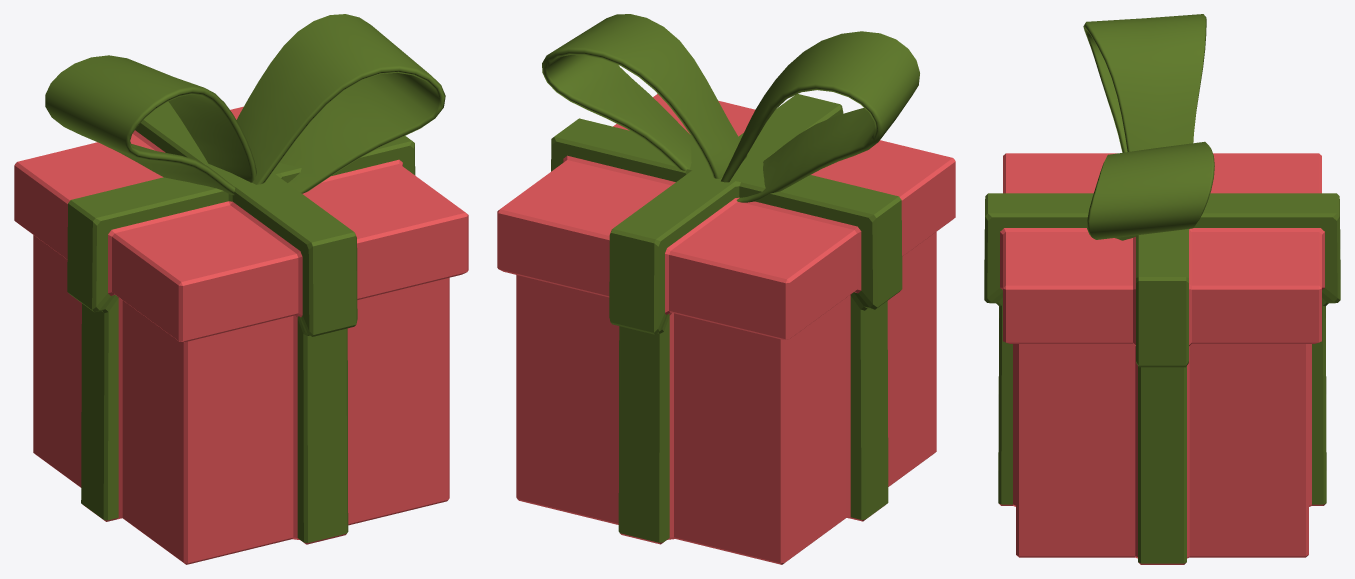
File: cadeau.fbx
The picture shows the model from 3 angles, left to right: view 1: azimuth 30°, elevation 25°; view 2: azimuth 150°, elevation 25°; view 3: azimuth 270°, elevation 25°; orthographic projection. The views are drawn at different scales.
Visible parts, largest first — view 1: Cylinder.001; view 2: Cylinder.001; view 3: Cylinder.001.
Part boxes in pixels (bbox=[...]): Cylinder.001: bbox=[14, 14, 468, 564]; Cylinder.001: bbox=[497, 14, 955, 564]; Cylinder.001: bbox=[984, 14, 1340, 564].
Size of the model in its own units: 257 by 316 by 243.
